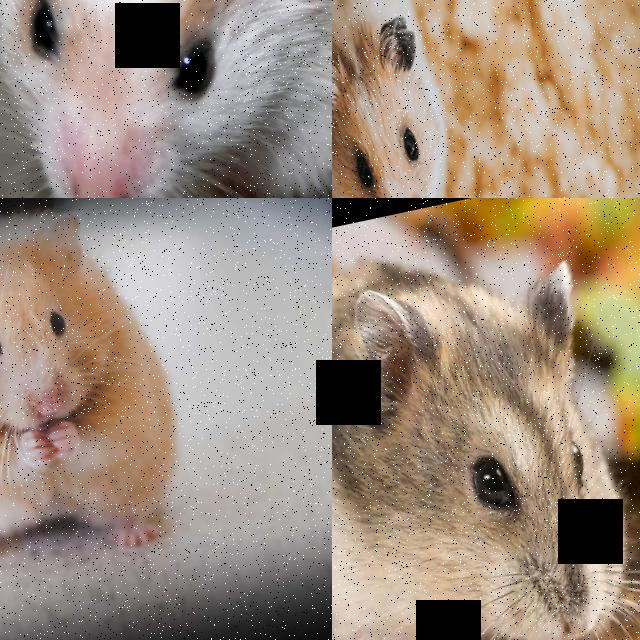hamster: (332, 210, 640, 640), (0, 198, 207, 590), (0, 0, 332, 198), (332, 0, 479, 198)
